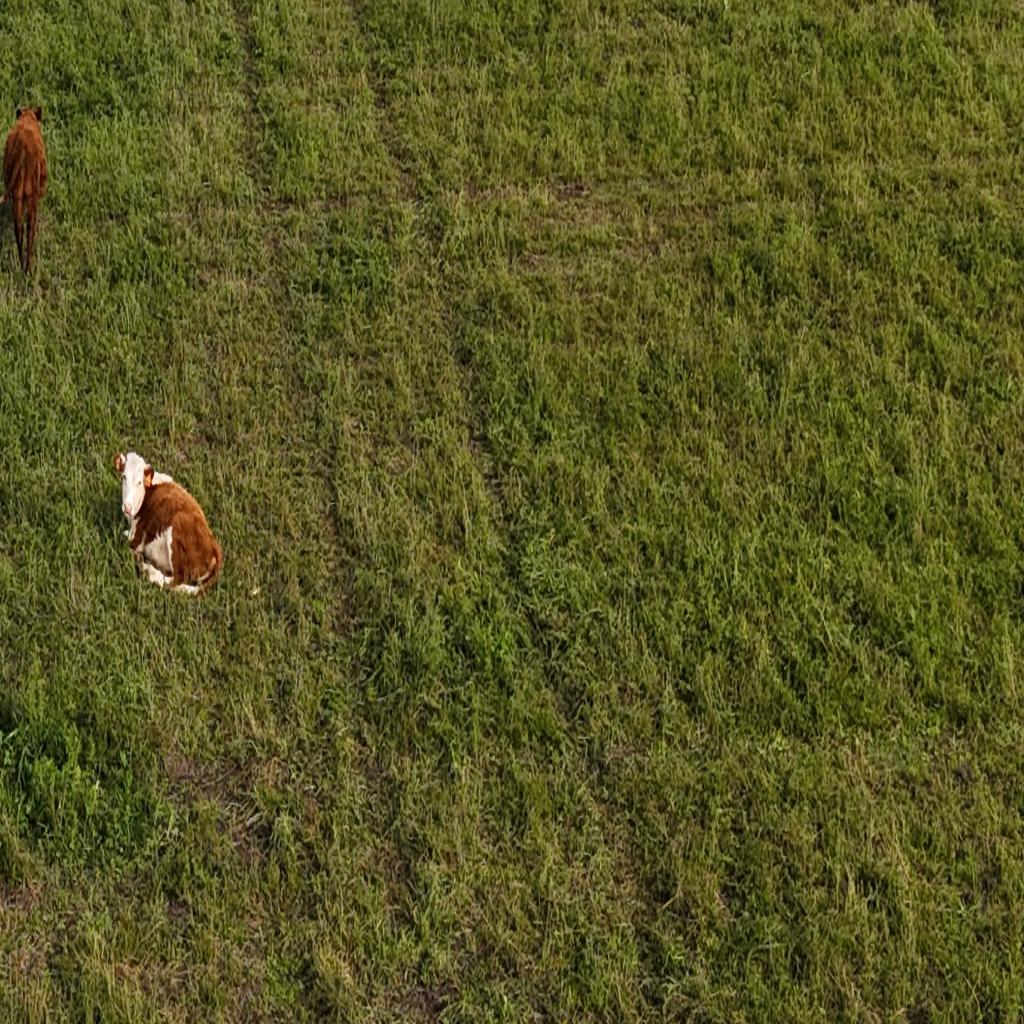cow: (113, 438, 227, 601), (0, 98, 51, 282)
